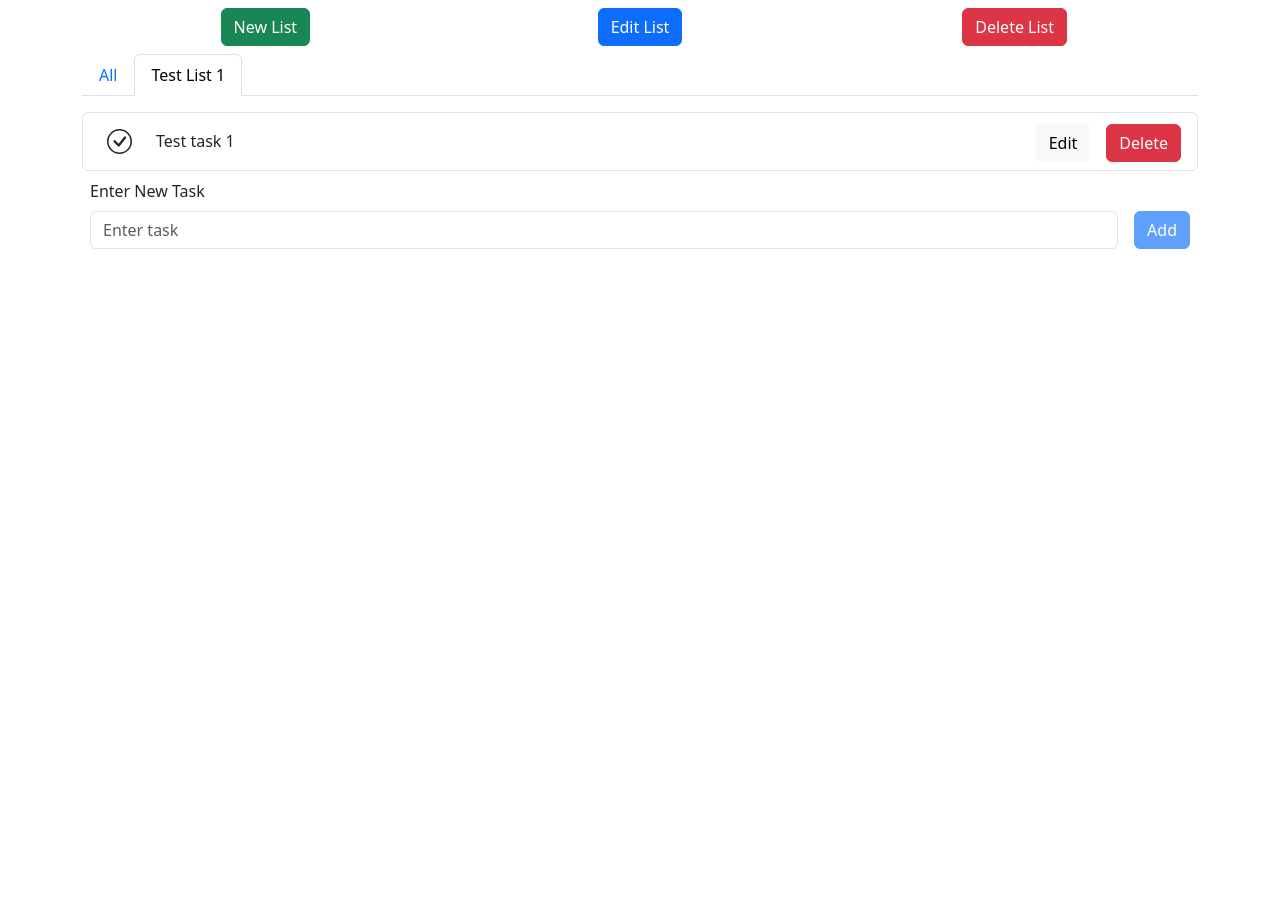
deletes list
Click the button "Delete List" at point(1015, 27), box [962,8,1067,46]
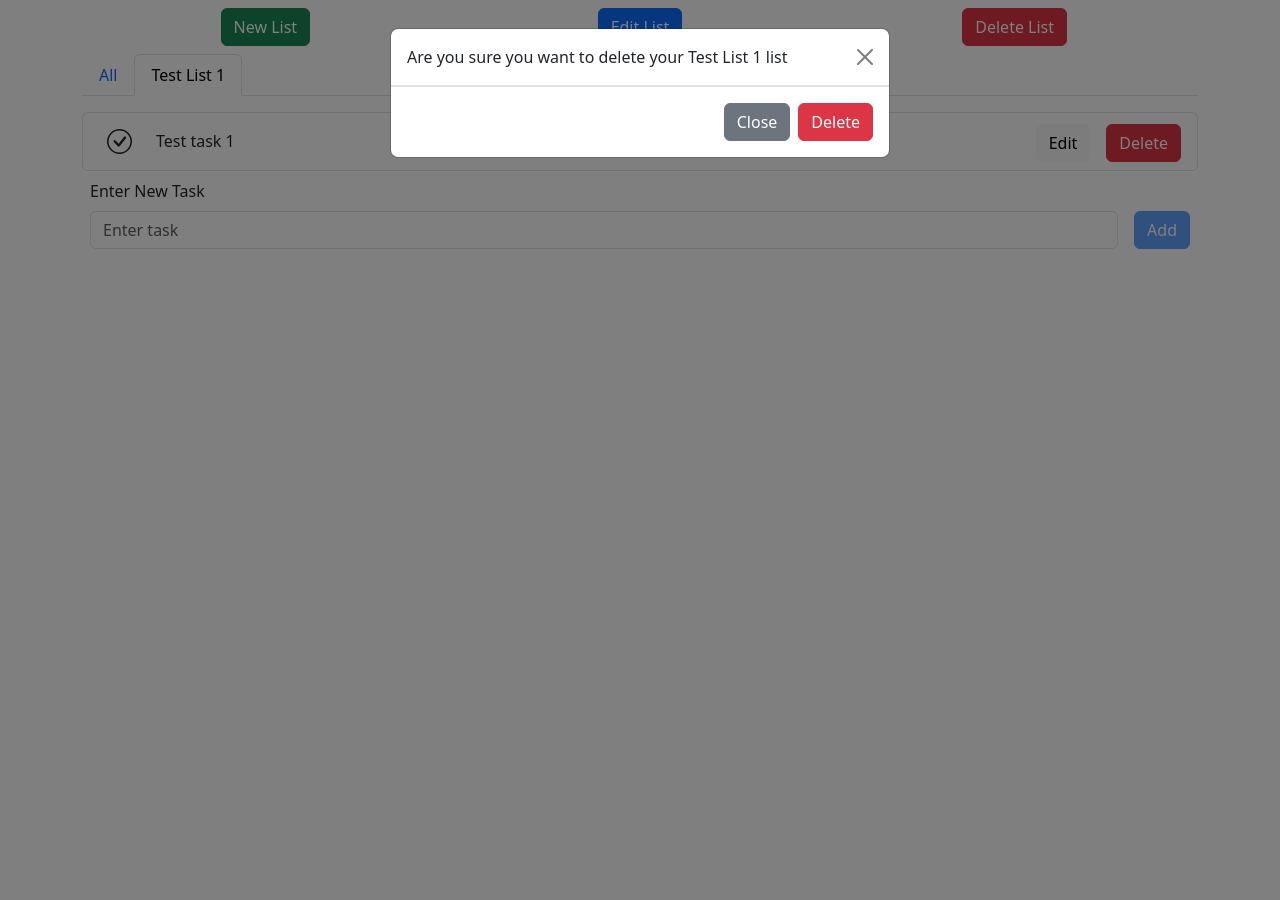
Click the button "Delete" at point(836, 122), box [798,103,873,141]
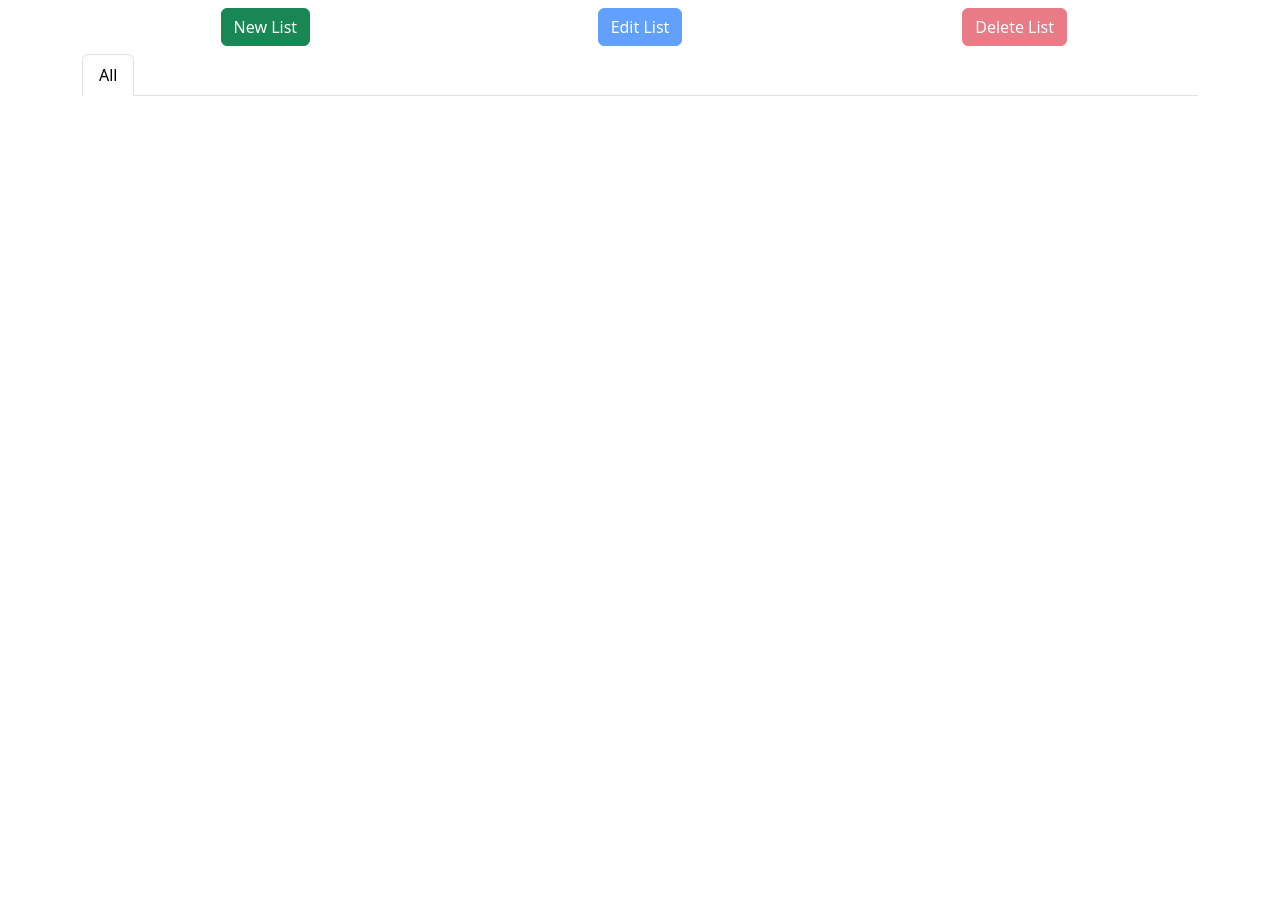
Expected: the tab "Test List 1" is gone
